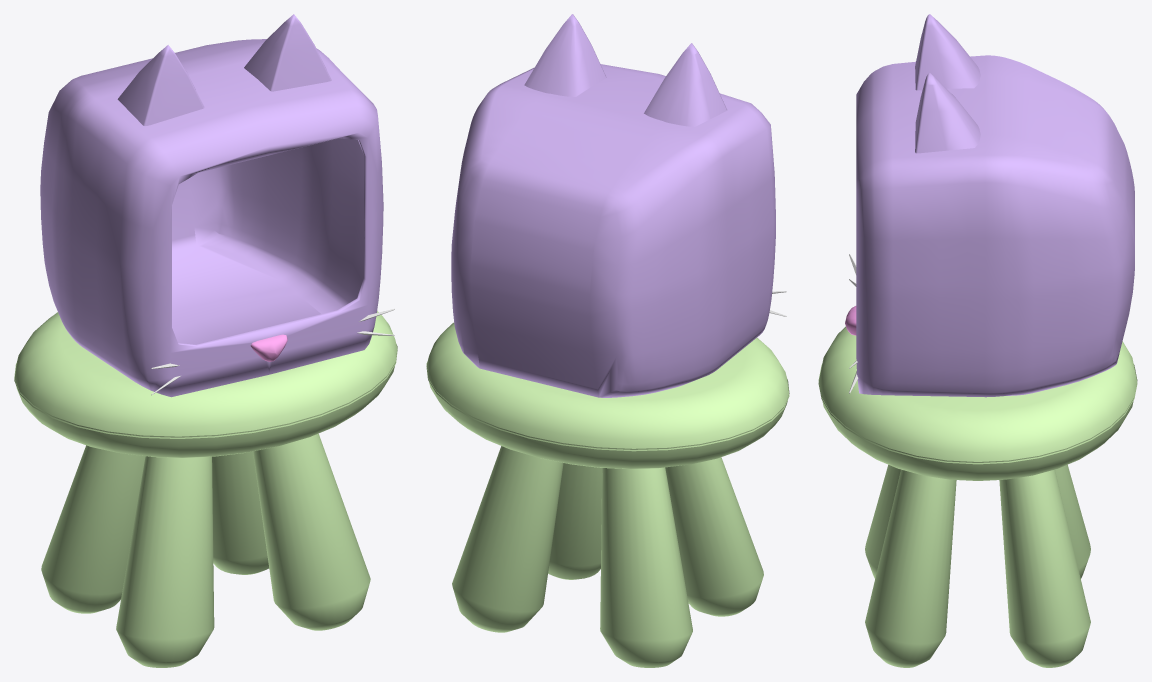
File: telkkaplusvärit.fbx
3 views of the same model, side by side, from view 1: azimuth 30°, elevation 25°; view 2: azimuth 150°, elevation 25°; view 3: azimuth 270°, elevation 25° (orthographic). The views are drawn at different scales.
Parts seen in each view (by area): view 1: tv, tvTaso; view 2: tv, tvTaso; view 3: tv, tvTaso.
Boxes of the visible parts, bbox=[...] form: tv: bbox=[40, 14, 394, 397]; tvTaso: bbox=[14, 311, 397, 667]; tv: bbox=[451, 14, 786, 397]; tvTaso: bbox=[426, 322, 789, 667]; tv: bbox=[845, 14, 1134, 397]; tvTaso: bbox=[818, 326, 1137, 667].
Bounding box in the file's own units: 1.46 × 2.44 × 1.22.
